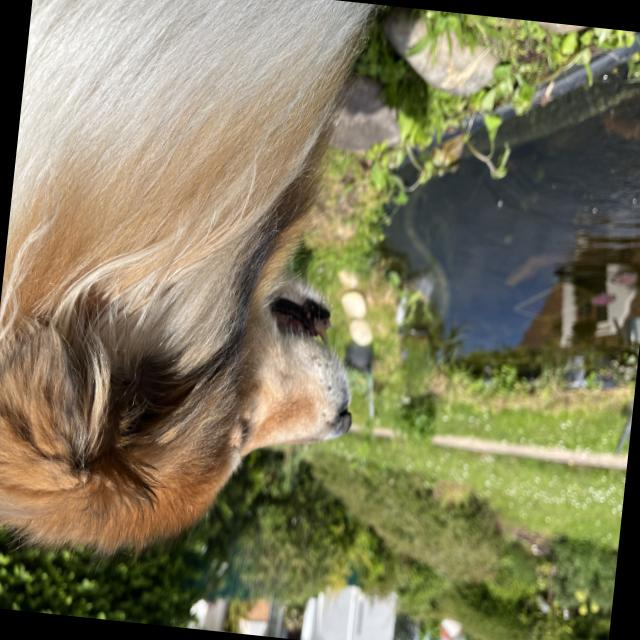Dog: (0, 0, 405, 587)
